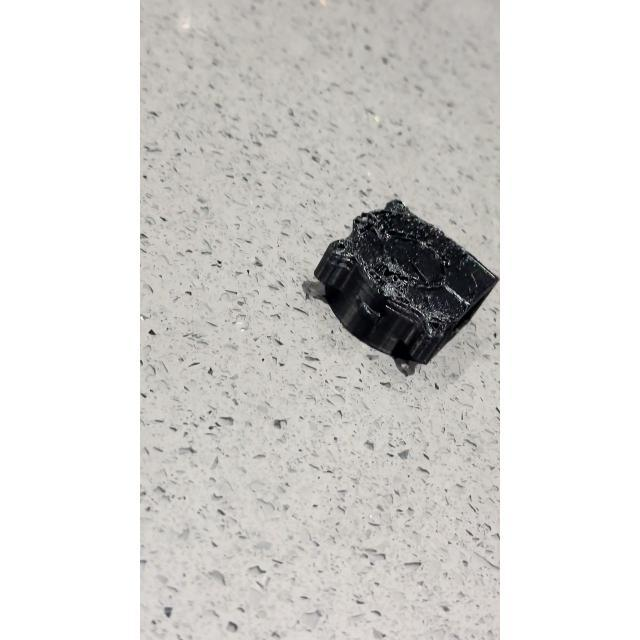Pieza3: (304, 196, 500, 380)
